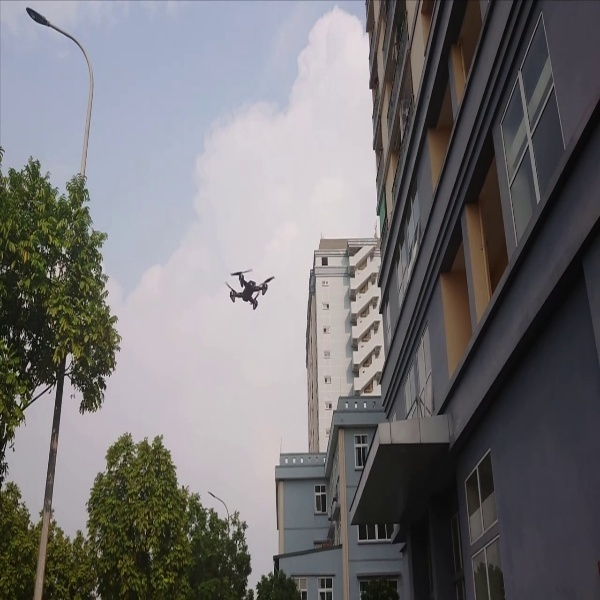drone: (212, 257, 283, 319)
